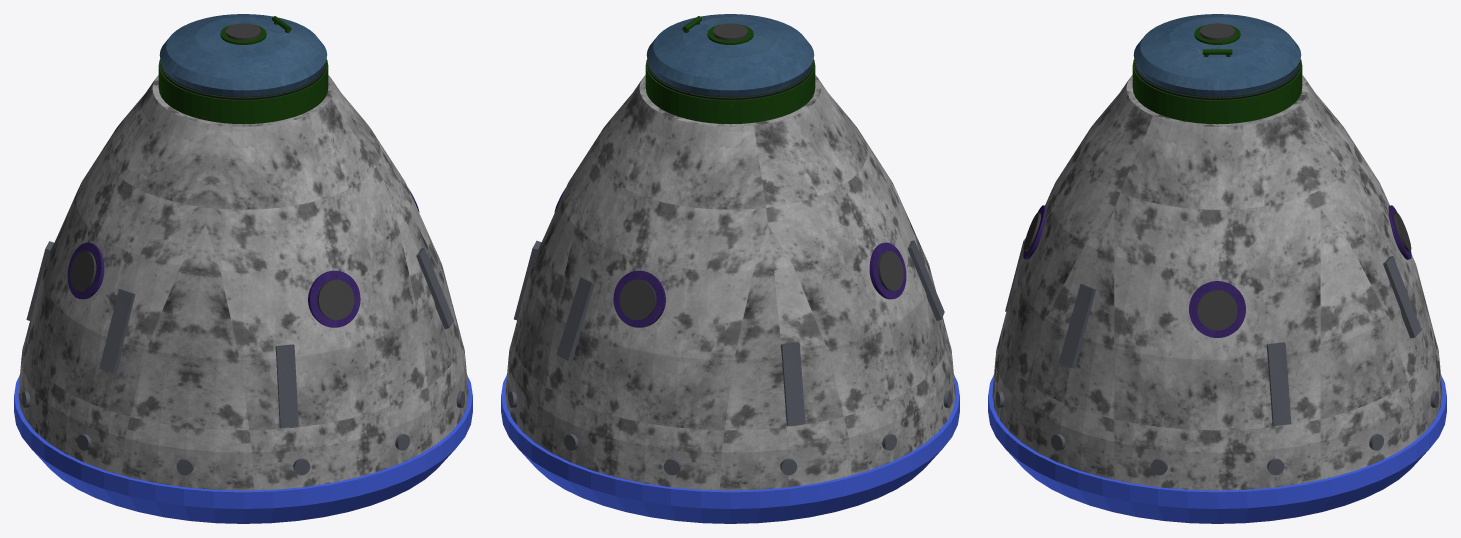
The model's file is Astronomy_Return_capsule__0070.glb.
3 renders of one model, left to right at view 1: azimuth 30°, elevation 25°; view 2: azimuth 150°, elevation 25°; view 3: azimuth 270°, elevation 25°, orthographic.
Visible parts, largest first — view 1: capsule::bell_body, capsule::heat_shield, hatch::lid_shell, capsule::hatch_collar, capsule::scorch_streak_4, capsule::scorch_streak_3, capsule::porthole_rim_3, capsule::porthole_glass_3, capsule::scorch_streak_5, capsule::porthole_rim_2, capsule::porthole_glass_2, capsule::hatch_seal_ring; view 2: capsule::bell_body, capsule::heat_shield, hatch::lid_shell, capsule::hatch_collar, capsule::scorch_streak_2, capsule::scorch_streak_1, capsule::porthole_rim_1, capsule::porthole_glass_1, capsule::porthole_rim_2, capsule::scorch_streak_3, capsule::porthole_glass_2, capsule::hatch_seal_ring; view 3: capsule::bell_body, capsule::heat_shield, hatch::lid_shell, capsule::hatch_collar, capsule::scorch_streak_0, capsule::scorch_streak_5, capsule::porthole_rim_0, capsule::porthole_glass_0, capsule::scorch_streak_1, capsule::hatch_seal_ring.
Part boxes in pixels (x1,y1,x2,y2): capsule::bell_body: (18, 75, 468, 490); capsule::heat_shield: (14, 375, 472, 523); hatch::lid_shell: (159, 14, 327, 96); capsule::hatch_collar: (158, 59, 328, 124); capsule::scorch_streak_4: (275, 344, 298, 427); capsule::scorch_streak_3: (99, 289, 135, 373); capsule::porthole_rim_3: (308, 270, 360, 327); capsule::porthole_glass_3: (317, 279, 354, 319); capsule::scorch_streak_5: (416, 247, 454, 328); capsule::porthole_rim_2: (67, 242, 104, 299); capsule::porthole_glass_2: (70, 251, 96, 291); capsule::hatch_seal_ring: (160, 62, 326, 99); capsule::bell_body: (505, 75, 955, 490); capsule::heat_shield: (501, 375, 959, 523); hatch::lid_shell: (646, 14, 814, 96); capsule::hatch_collar: (645, 59, 815, 124); capsule::scorch_streak_2: (780, 342, 805, 425); capsule::scorch_streak_1: (556, 277, 594, 361); capsule::porthole_rim_1: (613, 270, 665, 327); capsule::porthole_glass_1: (619, 279, 656, 319); capsule::porthole_rim_2: (869, 242, 906, 299); capsule::scorch_streak_3: (907, 240, 944, 320); capsule::porthole_glass_2: (877, 251, 903, 291); capsule::hatch_seal_ring: (647, 62, 813, 99); capsule::bell_body: (992, 75, 1442, 490); capsule::heat_shield: (988, 375, 1446, 523); hatch::lid_shell: (1133, 14, 1301, 96); capsule::hatch_collar: (1132, 59, 1302, 124); capsule::scorch_streak_0: (1266, 342, 1291, 426); capsule::scorch_streak_5: (1059, 284, 1096, 368); capsule::porthole_rim_0: (1189, 281, 1245, 337); capsule::porthole_glass_0: (1197, 290, 1237, 330); capsule::scorch_streak_1: (1383, 256, 1421, 338); capsule::hatch_seal_ring: (1134, 62, 1300, 99).
Size of the model in its own units: 2.22 by 2.29 by 2.22.
9 materials, 7 textured.
